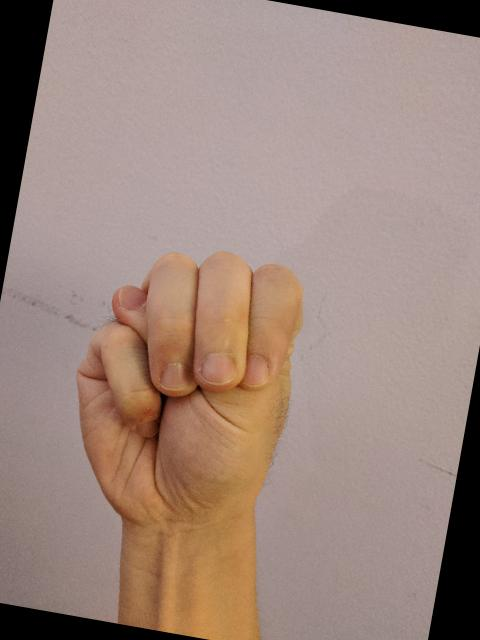M: (44, 223, 323, 551)
